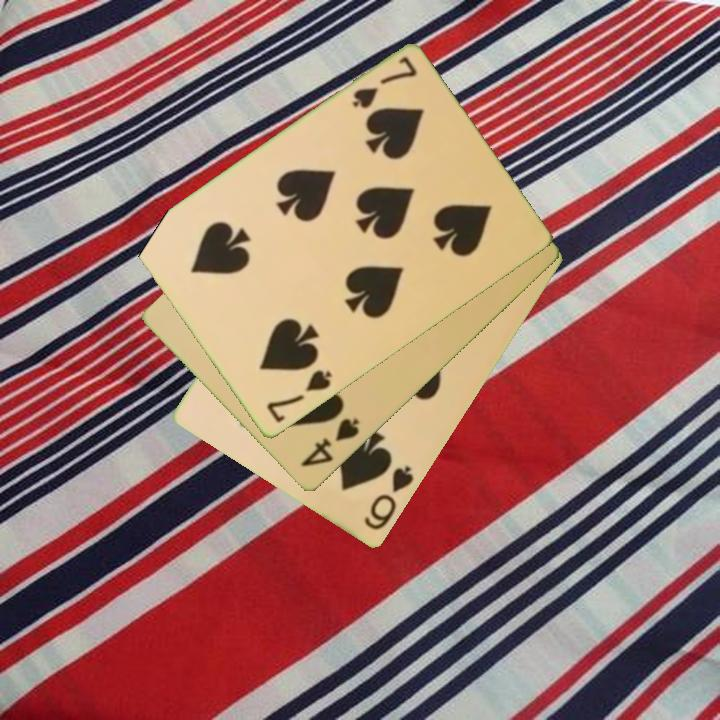4s: (297, 415, 362, 471)
6s: (360, 462, 417, 534)
7s: (263, 367, 335, 427), (348, 53, 420, 113)
